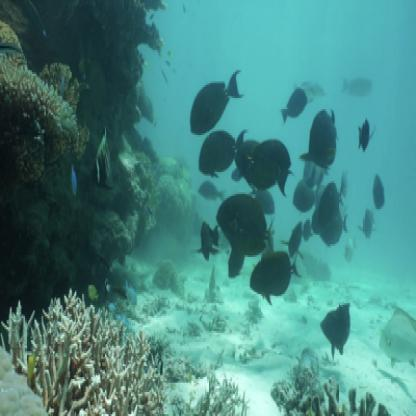Bio: (180, 66, 251, 140), (211, 186, 279, 260), (246, 242, 306, 305), (195, 124, 249, 180), (316, 294, 355, 364), (276, 83, 312, 126)
